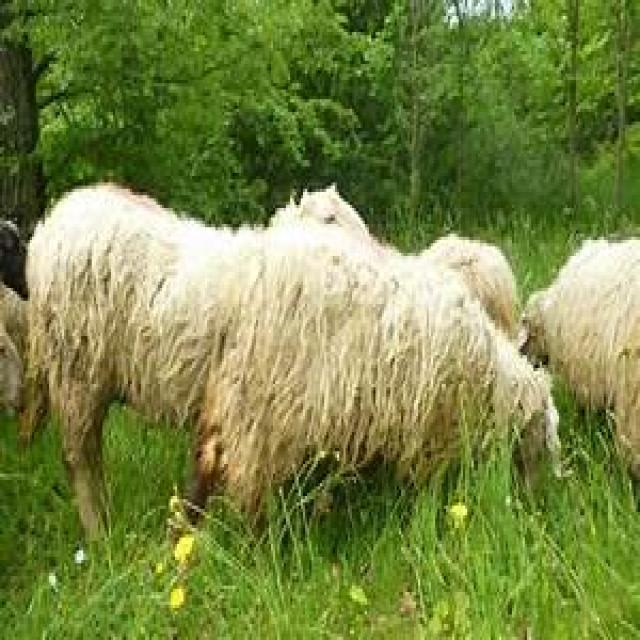sheep: (17, 179, 561, 554), (266, 180, 520, 342), (516, 230, 638, 516)
